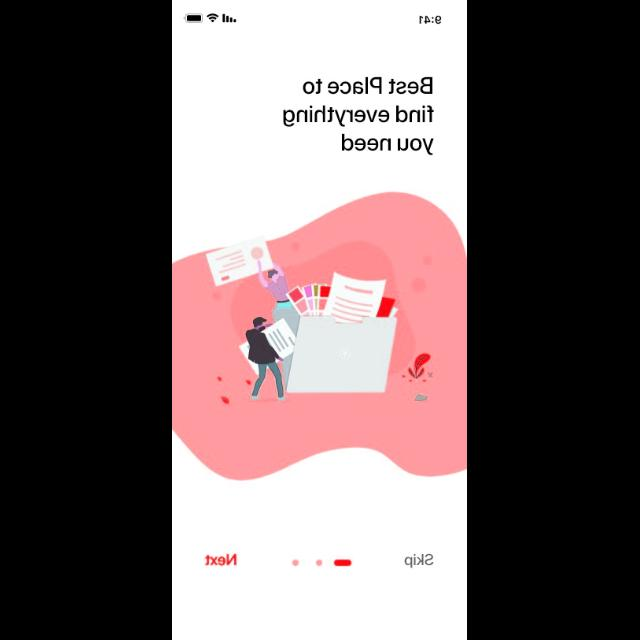image: (205, 236, 432, 404)
pageindicator: (292, 560, 352, 566)
text: (283, 77, 435, 157), (404, 554, 434, 568), (205, 554, 238, 566)
uppertaskbar: (184, 13, 442, 24)
